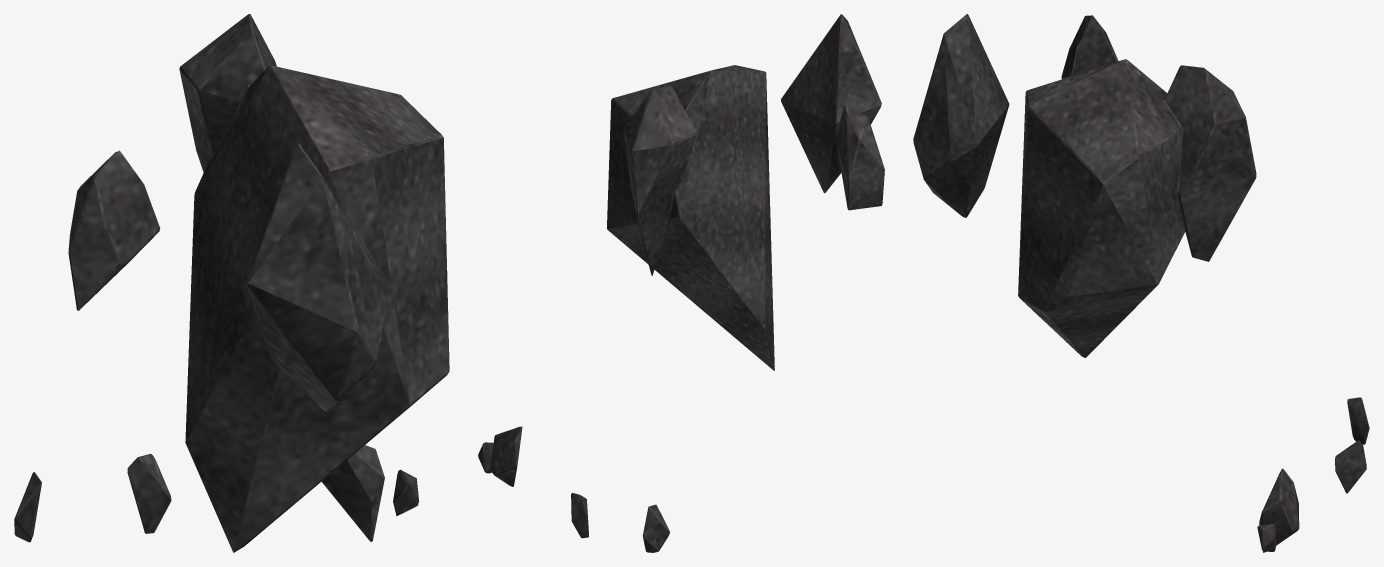
File: boulder_1.glb
3 renders of one model, left to right at view 1: azimuth 30°, elevation 25°; view 2: azimuth 150°, elevation 25°; view 3: azimuth 270°, elevation 25°, orthographic. The views are drawn at different scales.
Parts seen in each view (by area): view 1: boulder_1_c0; view 2: boulder_1_c0; view 3: boulder_1_c0.
Boxes of the visible parts, box(x1,y1,x2,y2) form: boulder_1_c0: box(14, 14, 449, 552); boulder_1_c0: box(478, 14, 884, 552); boulder_1_c0: box(913, 14, 1369, 552).
Bounding box in the file's own units: 1.73 × 2.16 × 2.02.
Materials: 1 (1 with a texture image).
